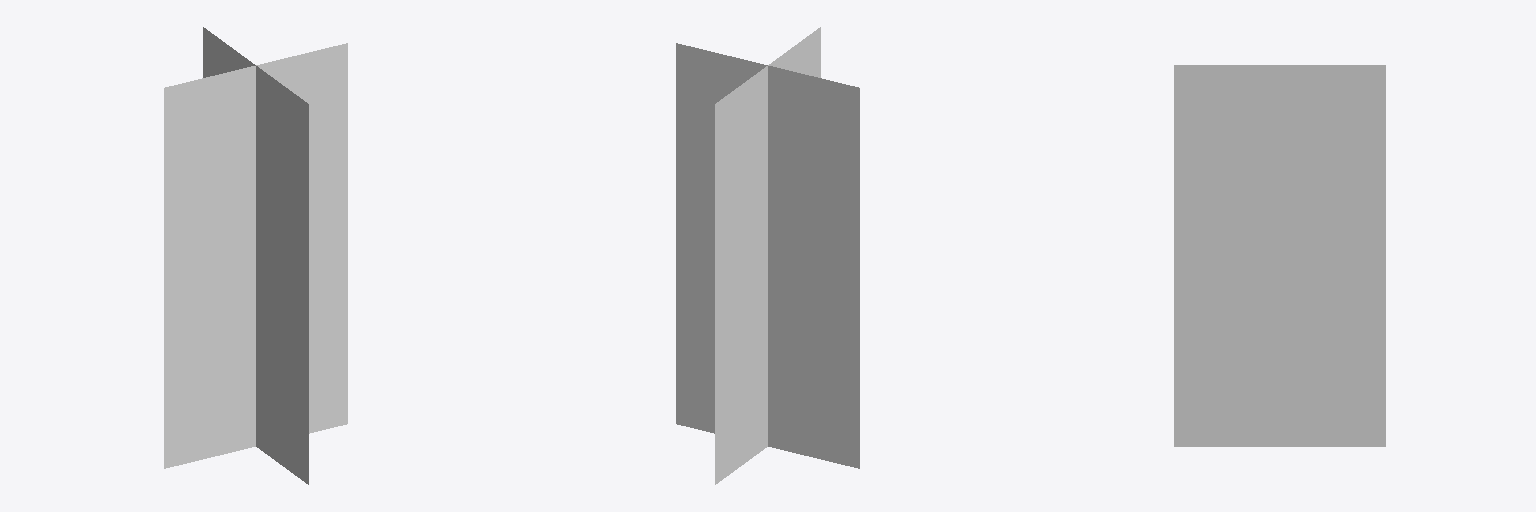
File: Snake_Plant_Fan_0.obj
3 renders of one model, left to right at view 1: azimuth 30°, elevation 25°; view 2: azimuth 150°, elevation 25°; view 3: azimuth 270°, elevation 25°, orthographic.
Visible parts, largest first — view 1: CreateFan; view 2: CreateFan; view 3: CreateFan.
Boxes of the visible parts, x1=… form: CreateFan: x1=164, y1=27, x2=347, y2=484; CreateFan: x1=676, y1=27, x2=859, y2=484; CreateFan: x1=1174, y1=65, x2=1385, y2=446.
Bounding box in the file's own units: 0.378 × 0.75 × 0.378.